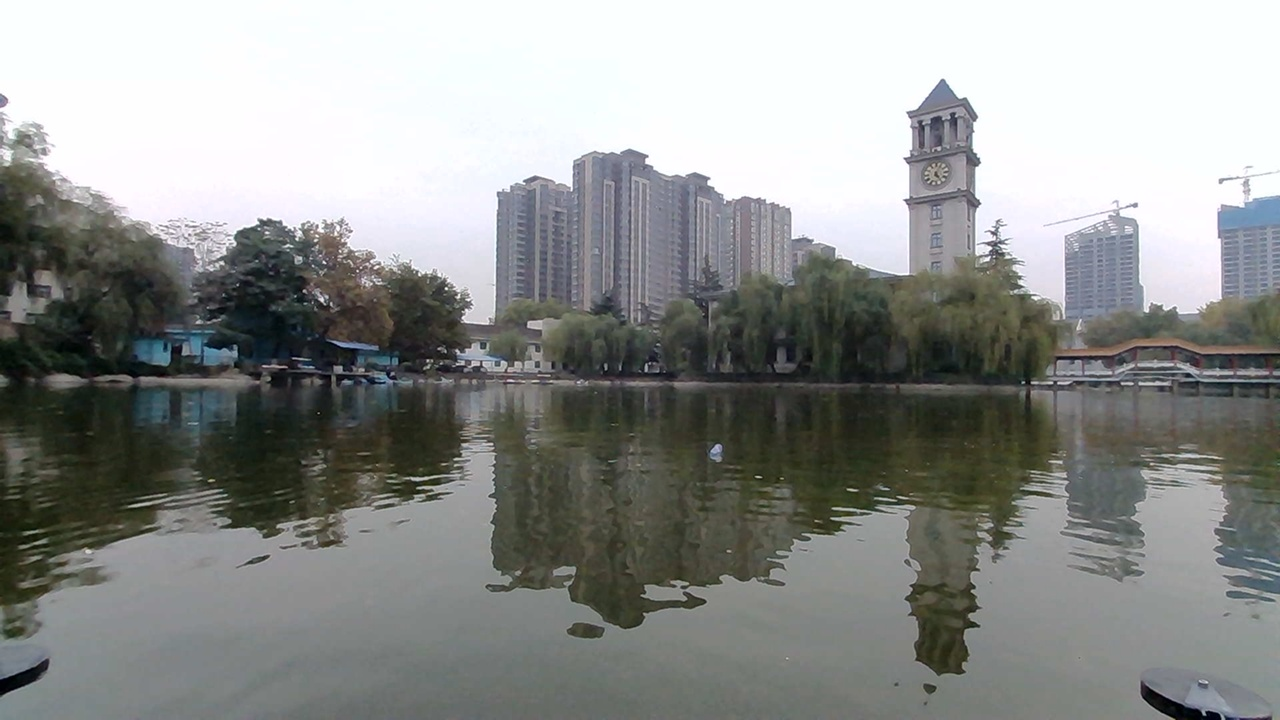bottle: (692, 438, 741, 470)
